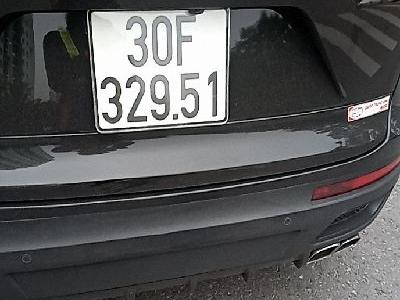lisence: (85, 6, 232, 136)
